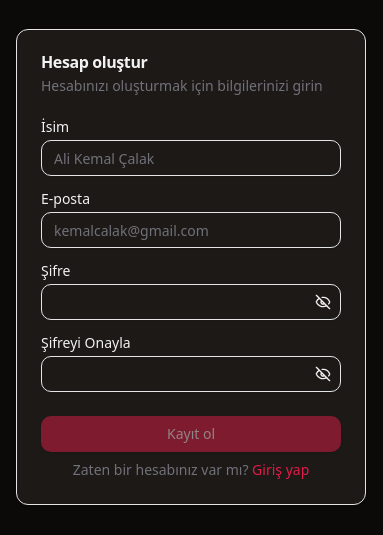
it: RegisterPage › shows error message on registration failure
The image size is (383, 535).
Type "Test User" into the field labelled "İsim". click: (191, 158)
box: [41,140,341,176]
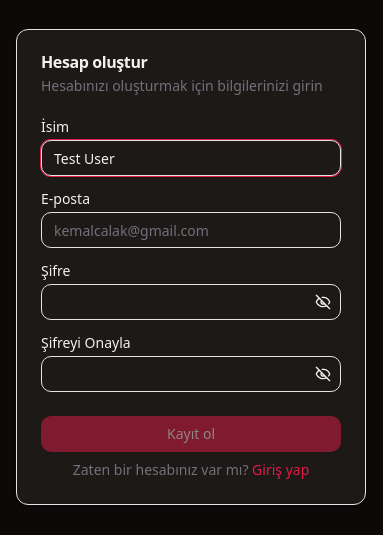
Type "existing@example.com" into the field labelled "E-posta". click: (191, 230)
box: [41,212,341,248]
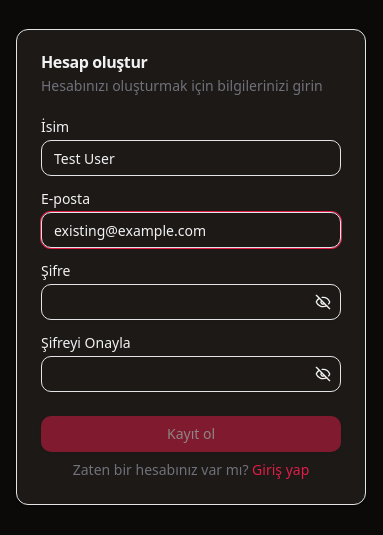
Type "password123" into the password field labelled "Şifre". click: (191, 302)
box: [41,284,341,320]
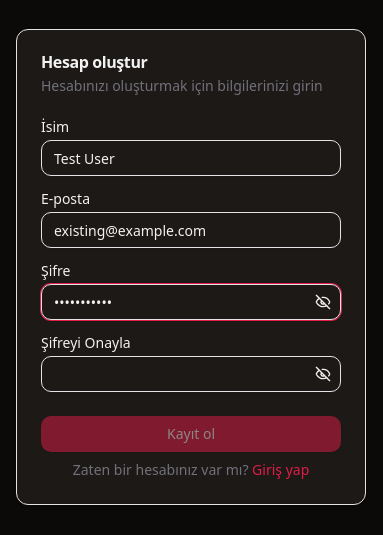
Type "password123" into the password field labelled "Şifreyi Onayla". click: (191, 374)
box: [41,356,341,392]
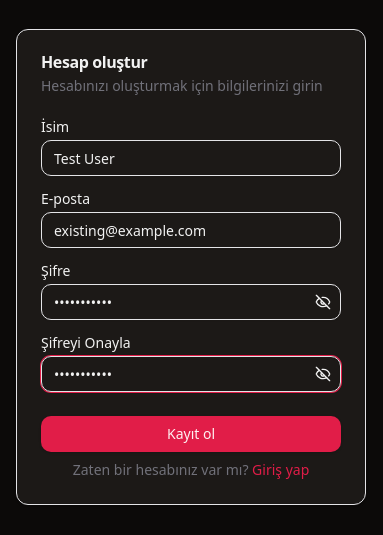
Click the button "Kayıt ol". click: (191, 434)
box: [41,416,341,452]
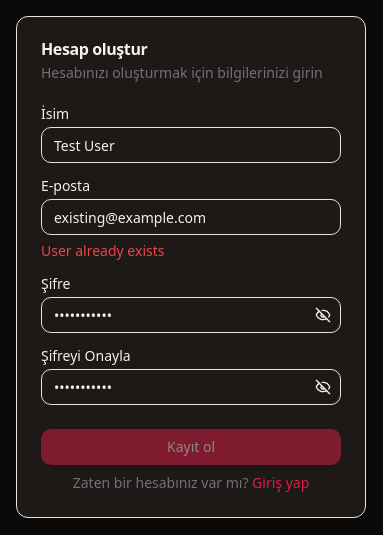
Expected: the text "User already exists" is shown, [41,241,164,260]
